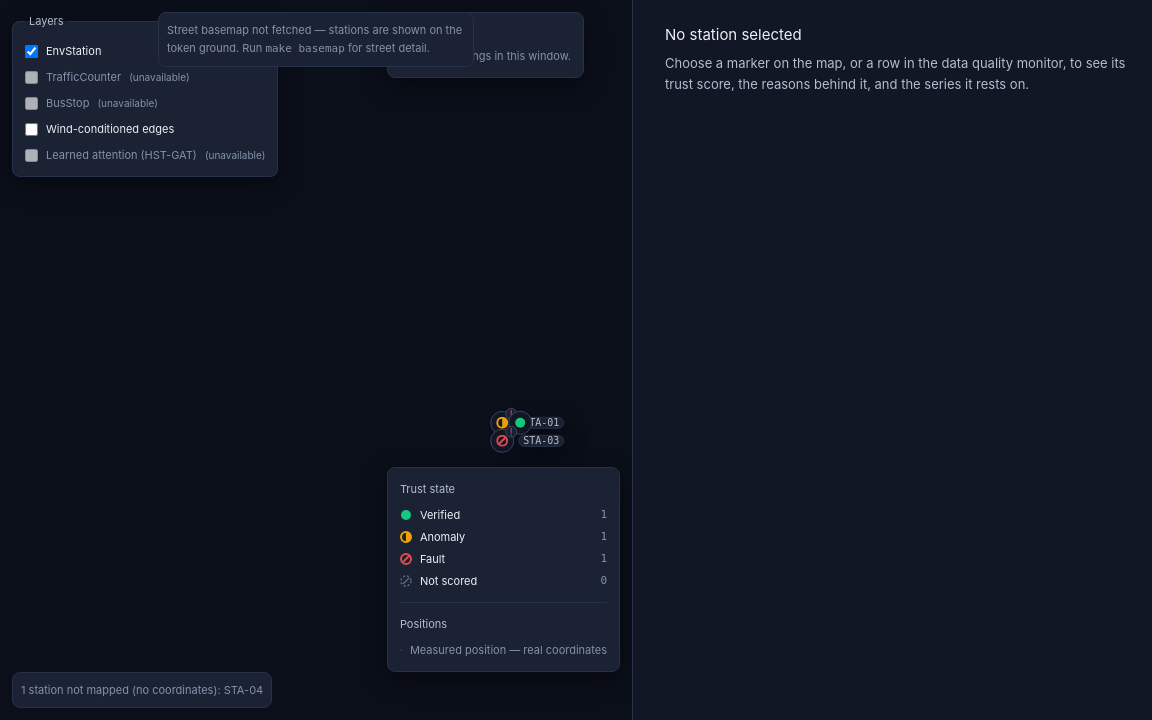
Scenario: NetworkMap › offers the wind-conditioned edge layer, off by default and switchable on
Click the checkbox with test id "layer-toggle-windEdges" at (32, 129), box [25,122,38,136]
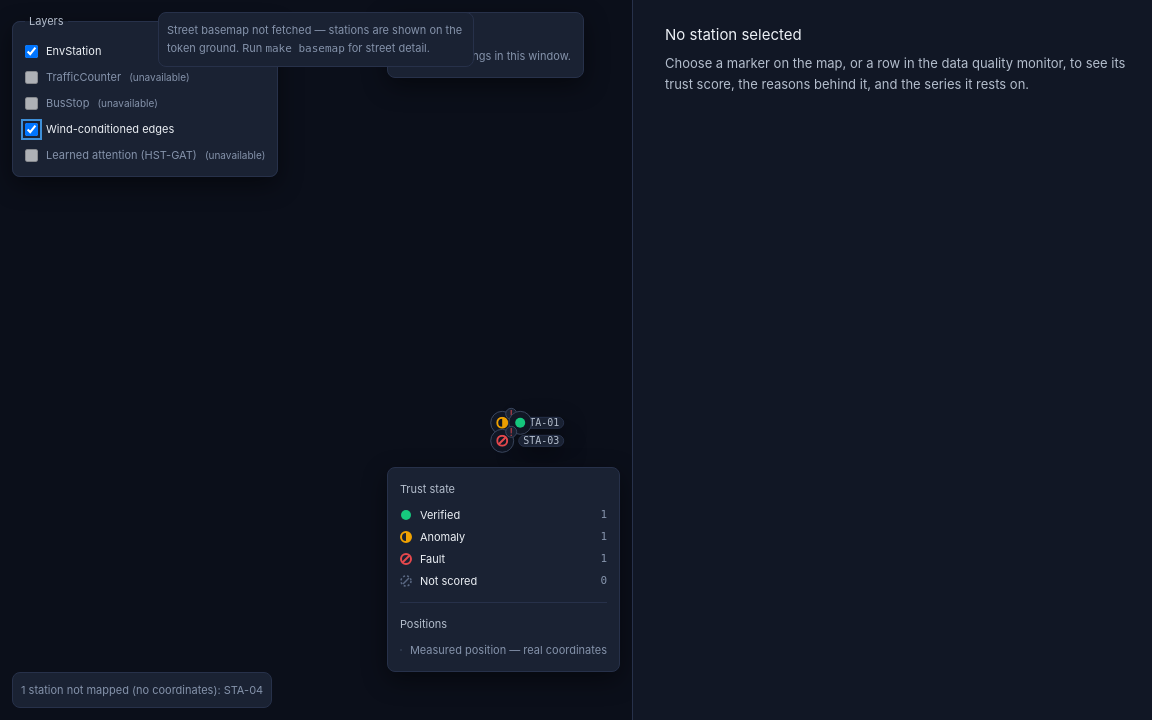
Expected: the checkbox with test id "layer-toggle-windEdges" is checked, [25,122,38,136]
Expected: the icon with test id "wind-edge-layer" is shown, [0,0,632,719]
